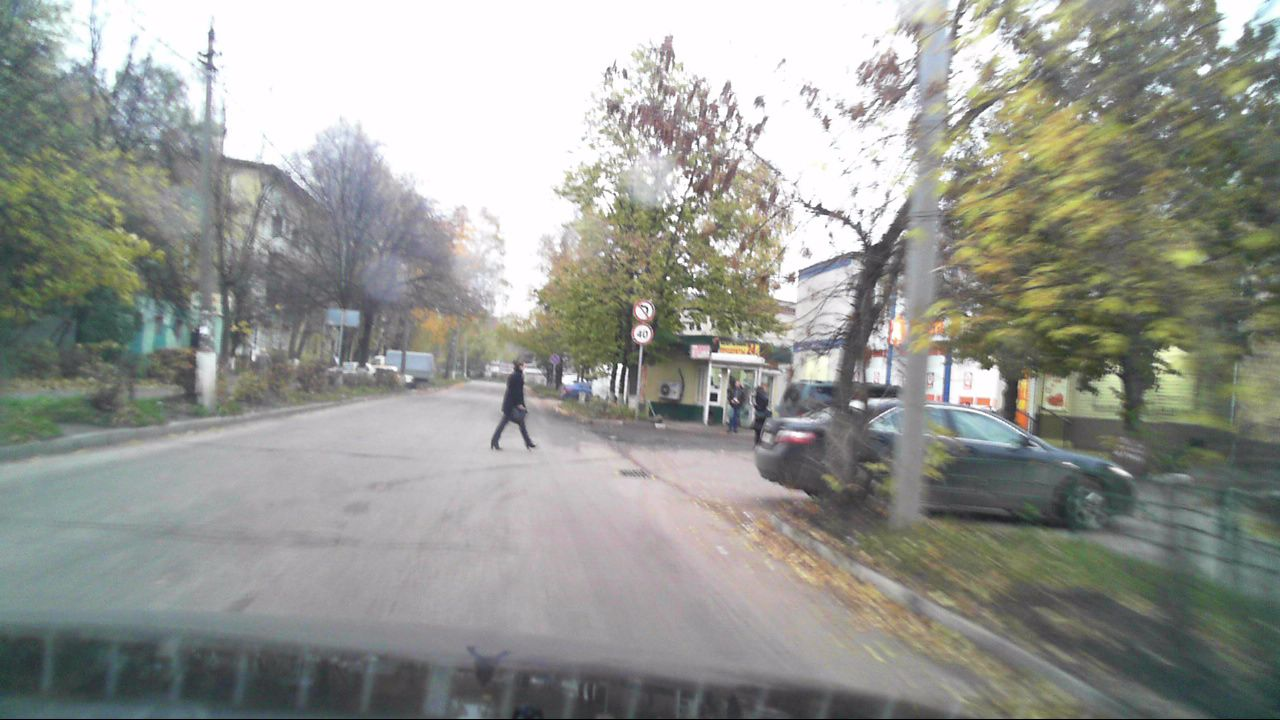speed_warning_40: (632, 324, 652, 344)
